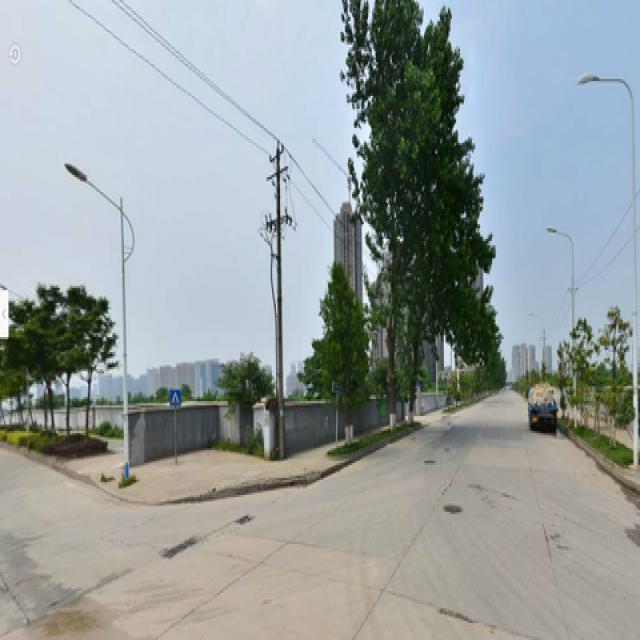koel: (67, 280, 108, 433)
